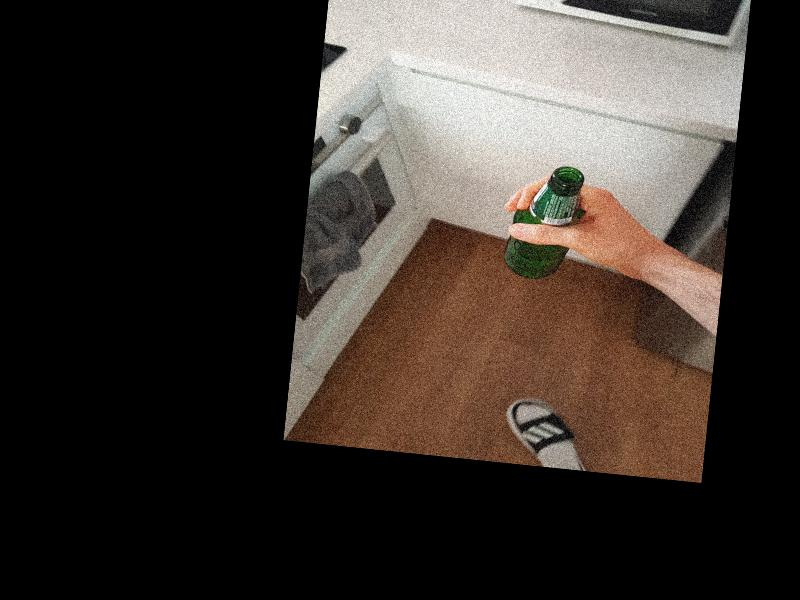Beer: (501, 162, 585, 283)
